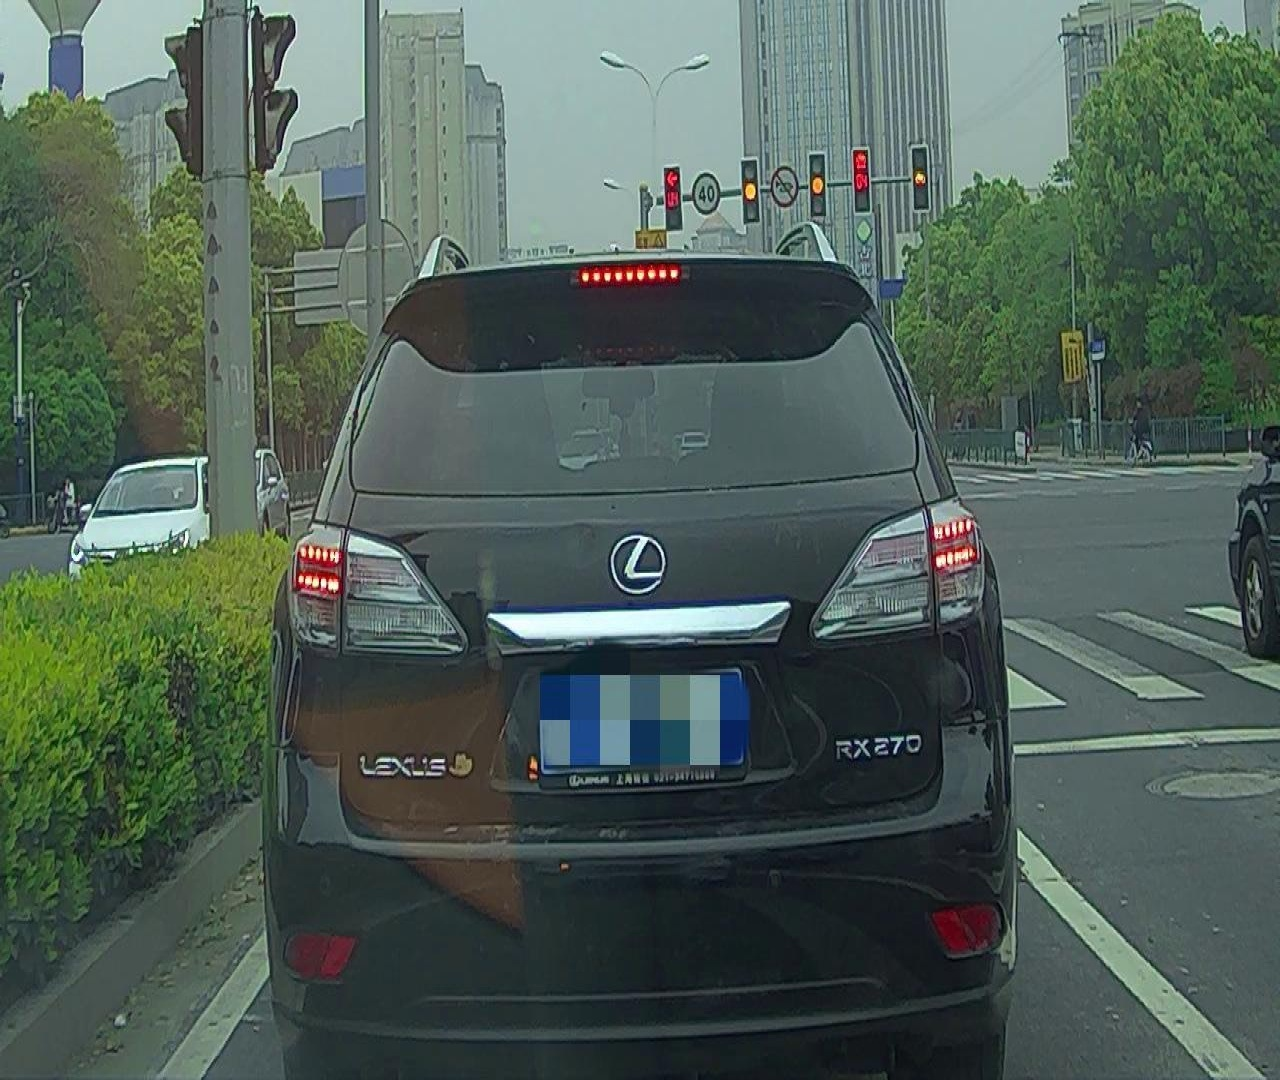red: (664, 166, 683, 229), (853, 147, 870, 211)
yellow: (741, 160, 761, 222), (809, 153, 826, 219), (912, 147, 929, 211)
